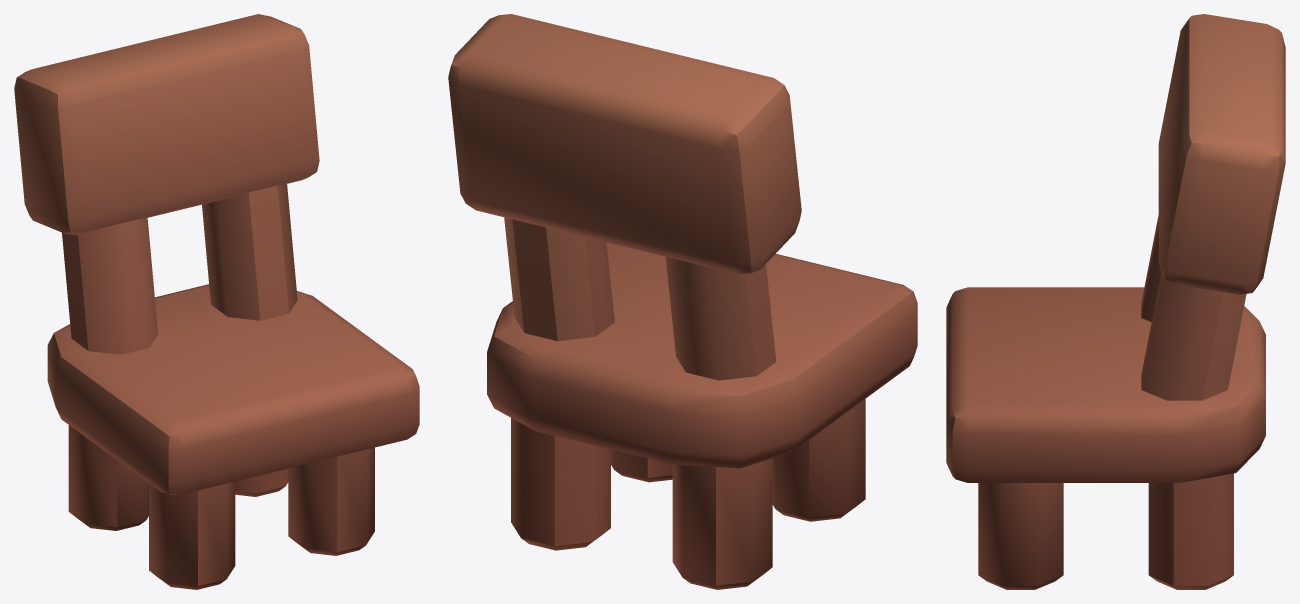
Rendered from chair_B.obj.
3 renders of one model, left to right at view 1: azimuth 30°, elevation 25°; view 2: azimuth 150°, elevation 25°; view 3: azimuth 270°, elevation 25°, orthographic. The views are drawn at different scales.
Parts seen in each view (by area): view 1: chair_B_Cylinder.001; view 2: chair_B_Cylinder.001; view 3: chair_B_Cylinder.001.
Boxes of the visible parts, x1,y1,x2,y2 form: chair_B_Cylinder.001: (14,14,419,589); chair_B_Cylinder.001: (448,14,917,589); chair_B_Cylinder.001: (946,14,1285,589).
Size of the model in its own units: 0.75 by 1.21 by 0.7962.
Materials: 1 (1 with a texture image).
